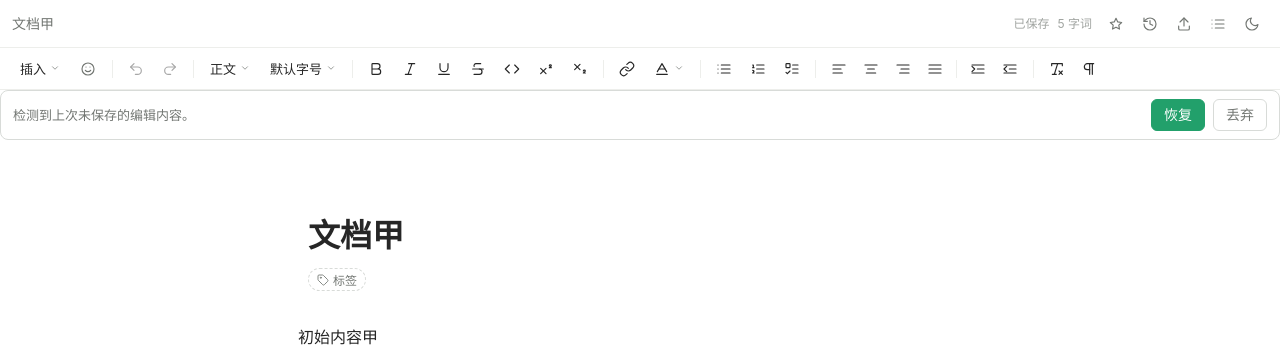
Test: MainArea 跨标签页同步 › 冲突面板①：重新载入磁盘版本，丢弃本地未保存修改
Click the button "恢复".
click(1178, 115)  # box [1151,99,1205,131]
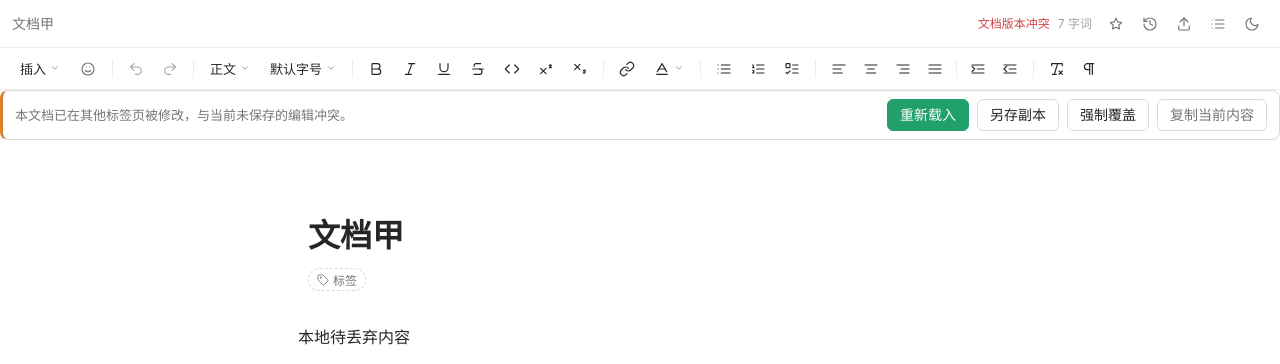
Expected: the text box labelled "本地待丢弃内容" is shown, [298,327,410,347]
Expected: the message "本文档已在其他标签页被修改，与当前未保存的编辑冲突。 重新载入 另存副本 强制覆盖 复制当前内容" is shown, [0,90,1279,140]
Expected: the text "文档版本冲突" is shown, [978,12,1050,34]
Click the button "重新载入".
click(928, 115)  # box [887,99,969,131]
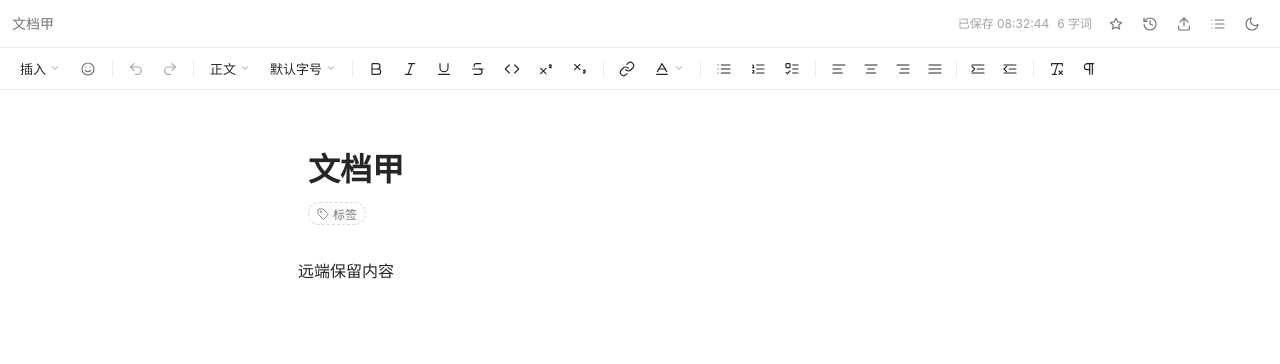
Expected: the text box labelled "远端保留内容" is shown, [298,261,394,281]
Expected: the message with class "conflict-banner" is gone
